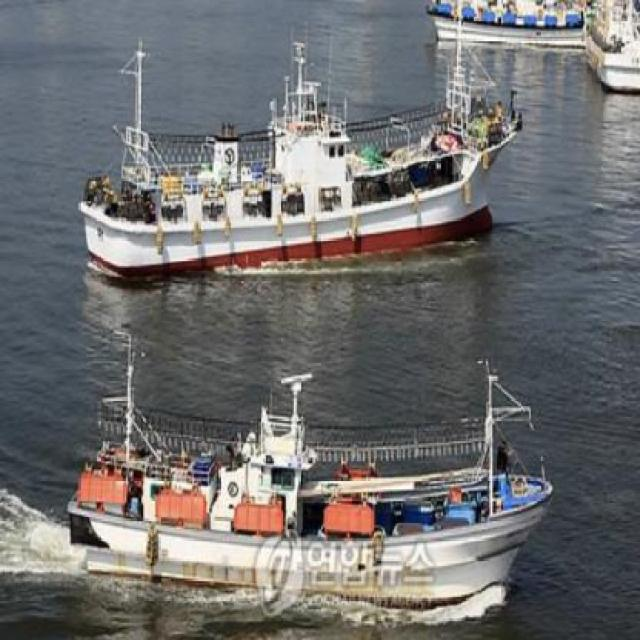fish-b: (57, 326, 570, 631), (75, 41, 539, 284)
